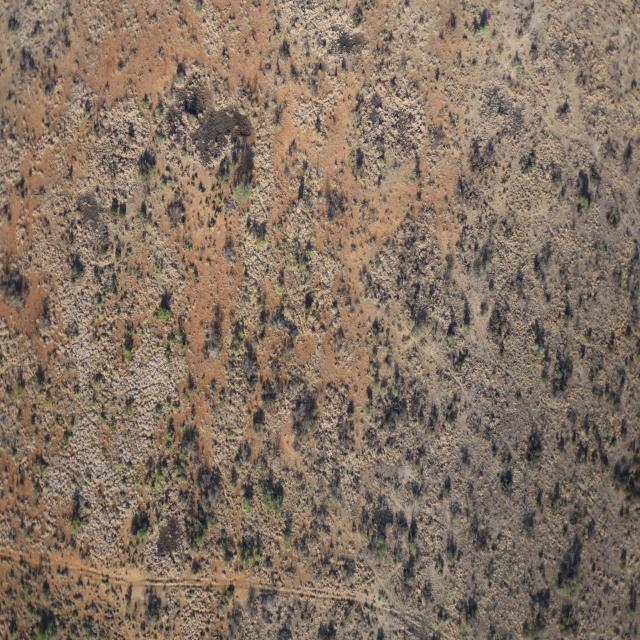elephant: (296, 197, 304, 214)
